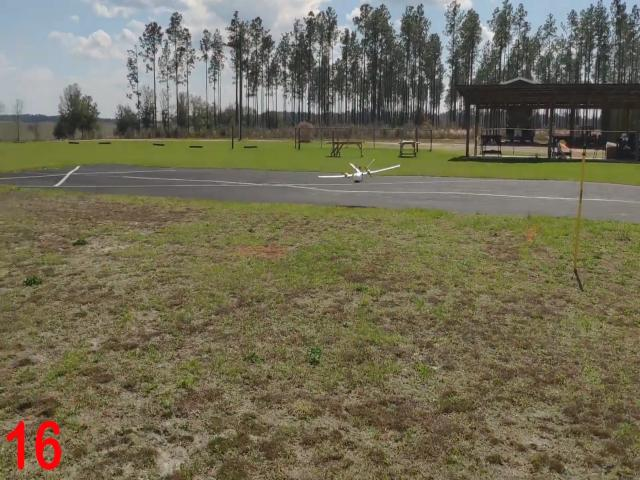plane: (318, 160, 401, 183)
